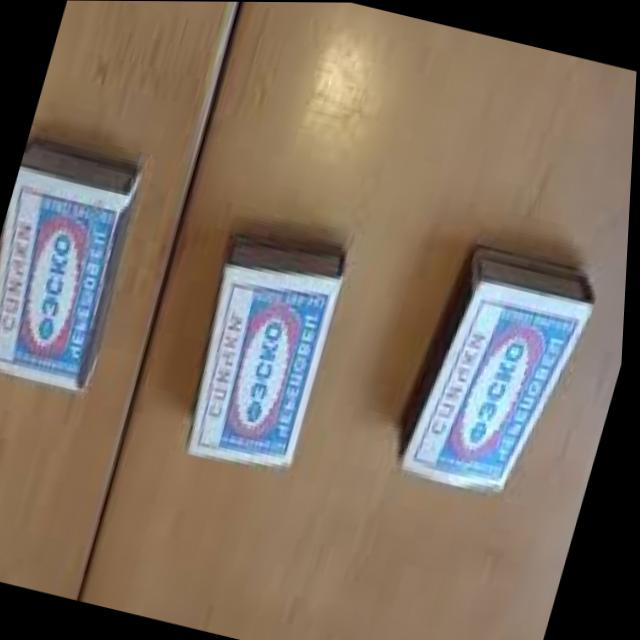match: (383, 225, 610, 512), (170, 218, 358, 481), (0, 133, 154, 402)
